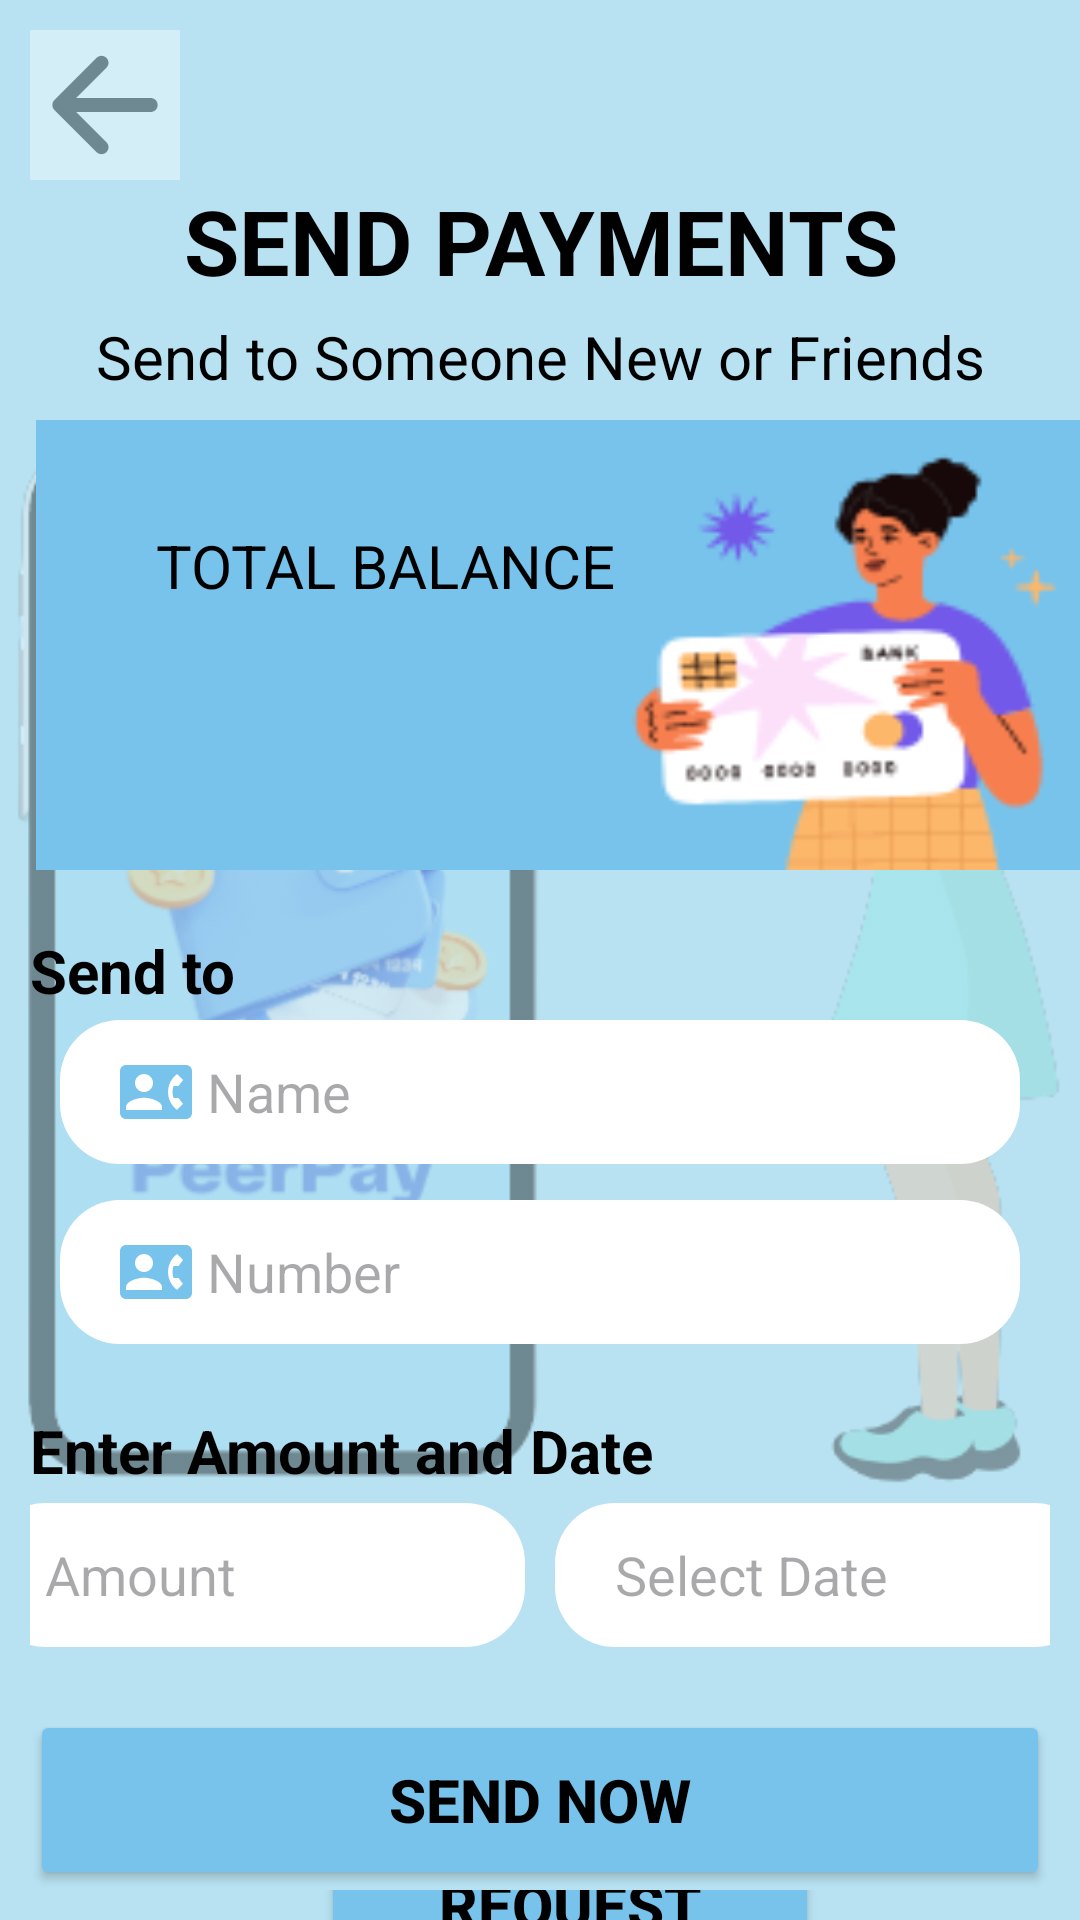

Screen size 1080 x 1920. Icon name, then its box in pixels as BBox(x1, y1, x2, y2):
Back Button: BBox(30, 30, 180, 180)
